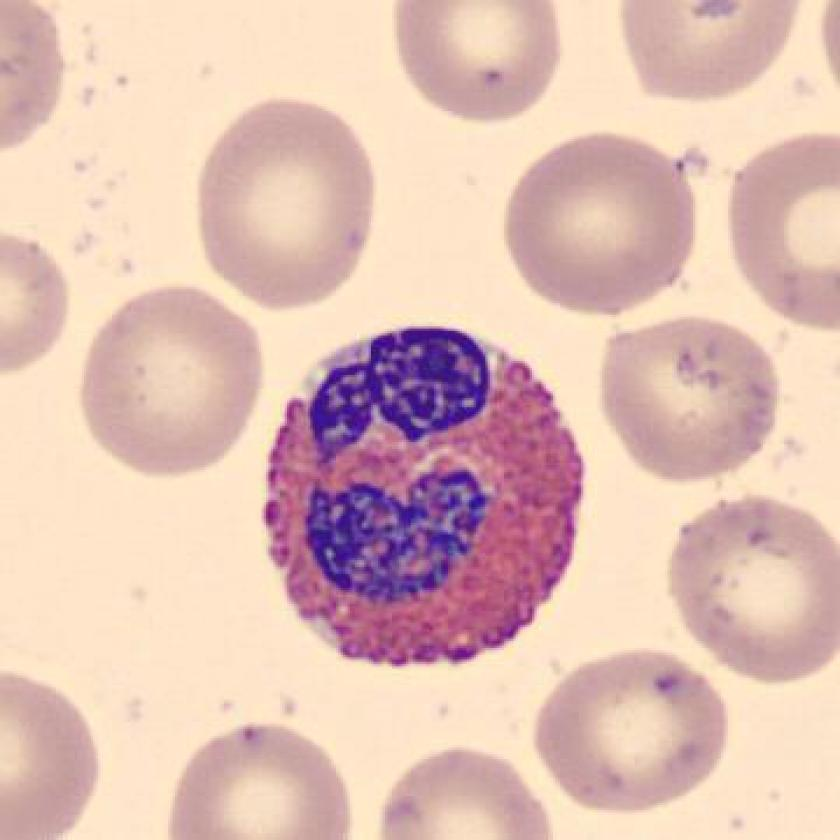eosinophil: (251, 320, 594, 679)
